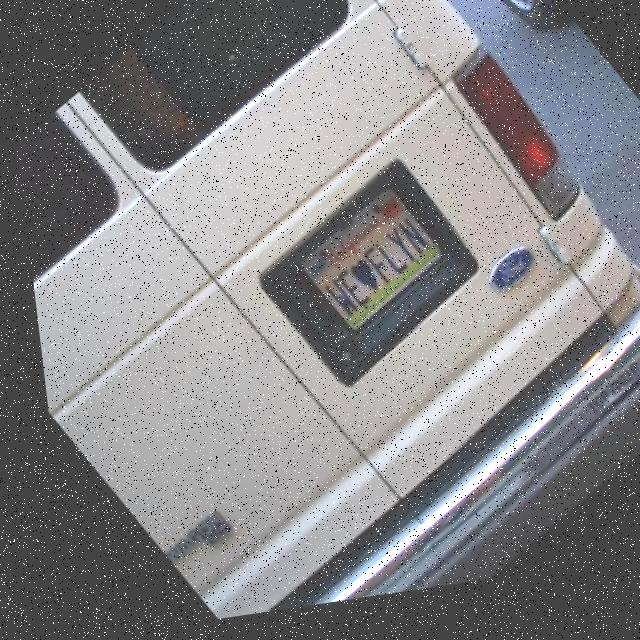license_plate: (280, 188, 445, 349)
